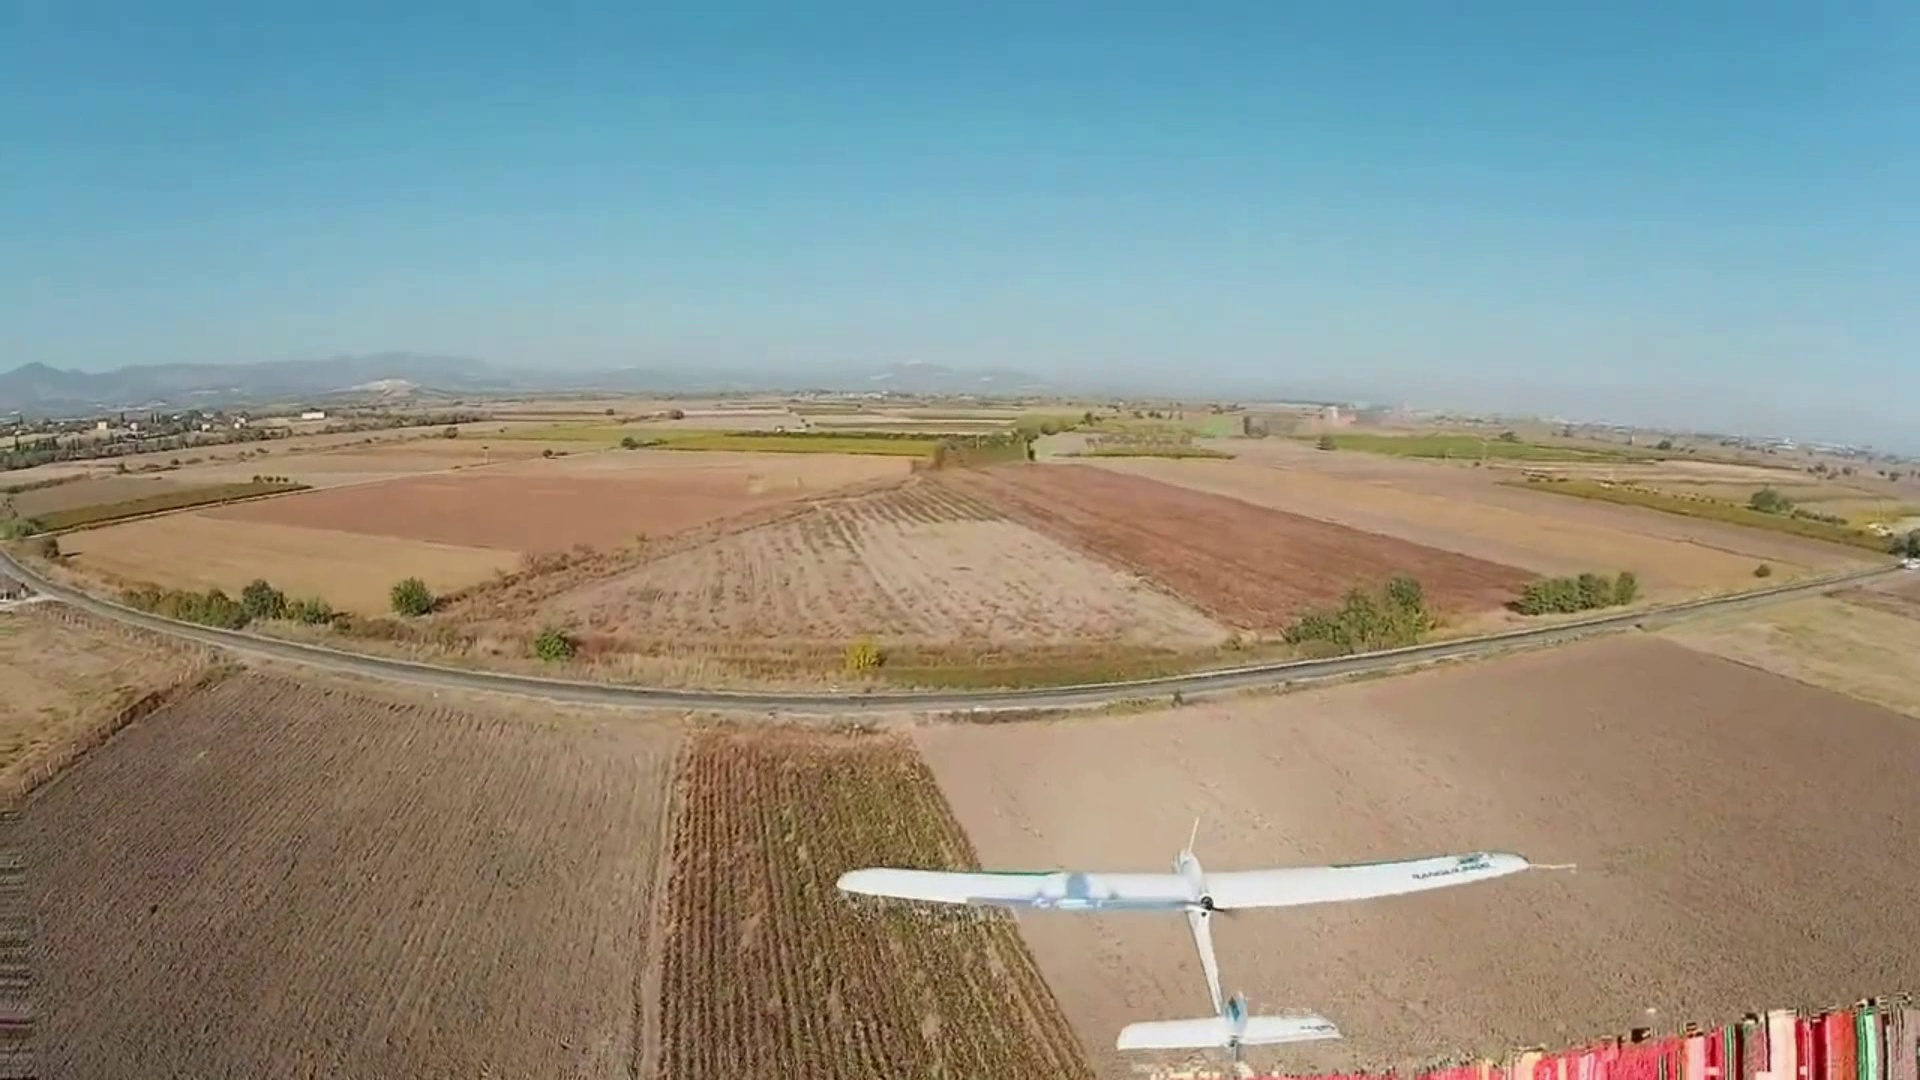airplane: (833, 822, 1528, 1051)
